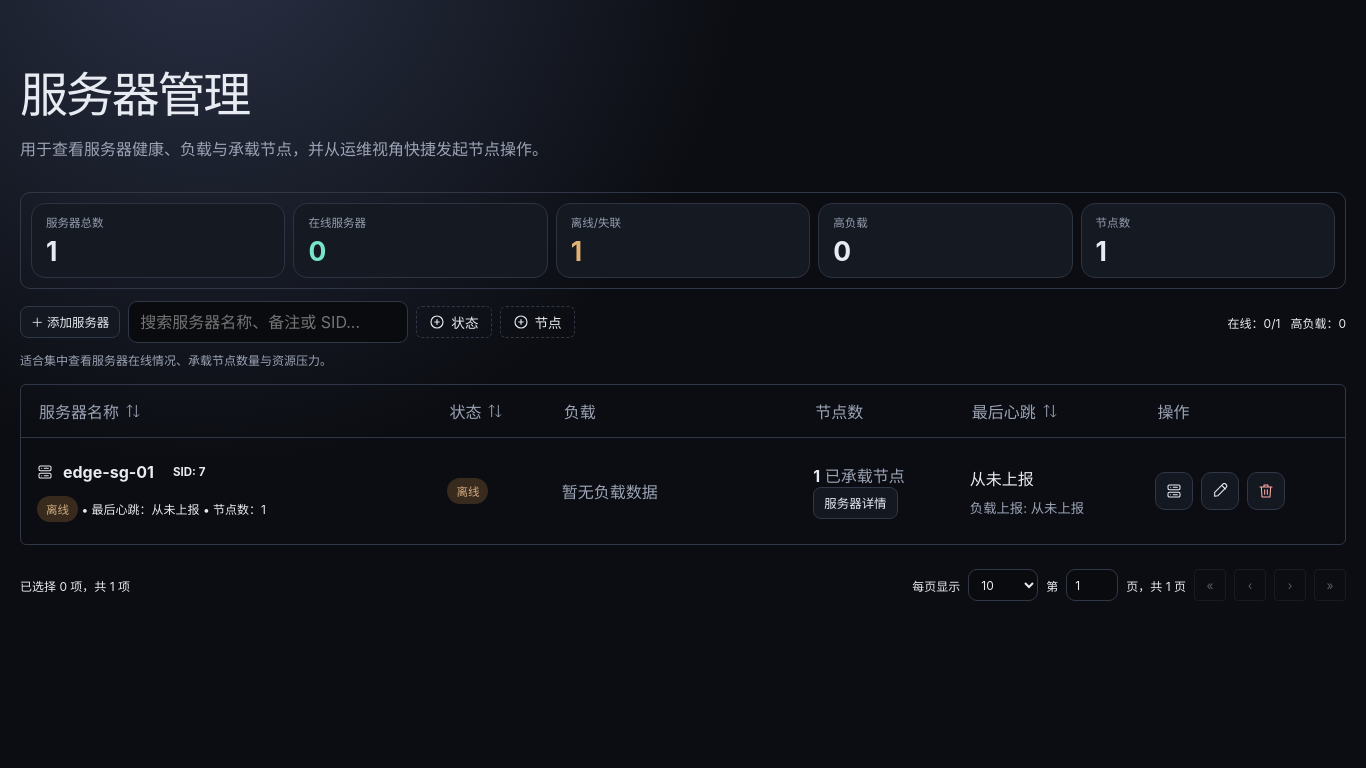
ServerManagementPage › Escape closes only the top modal and restores focus to its schedule button
Click the button "服务器详情". click: (855, 503)
box: [813,487,898,519]
(page scrolled)
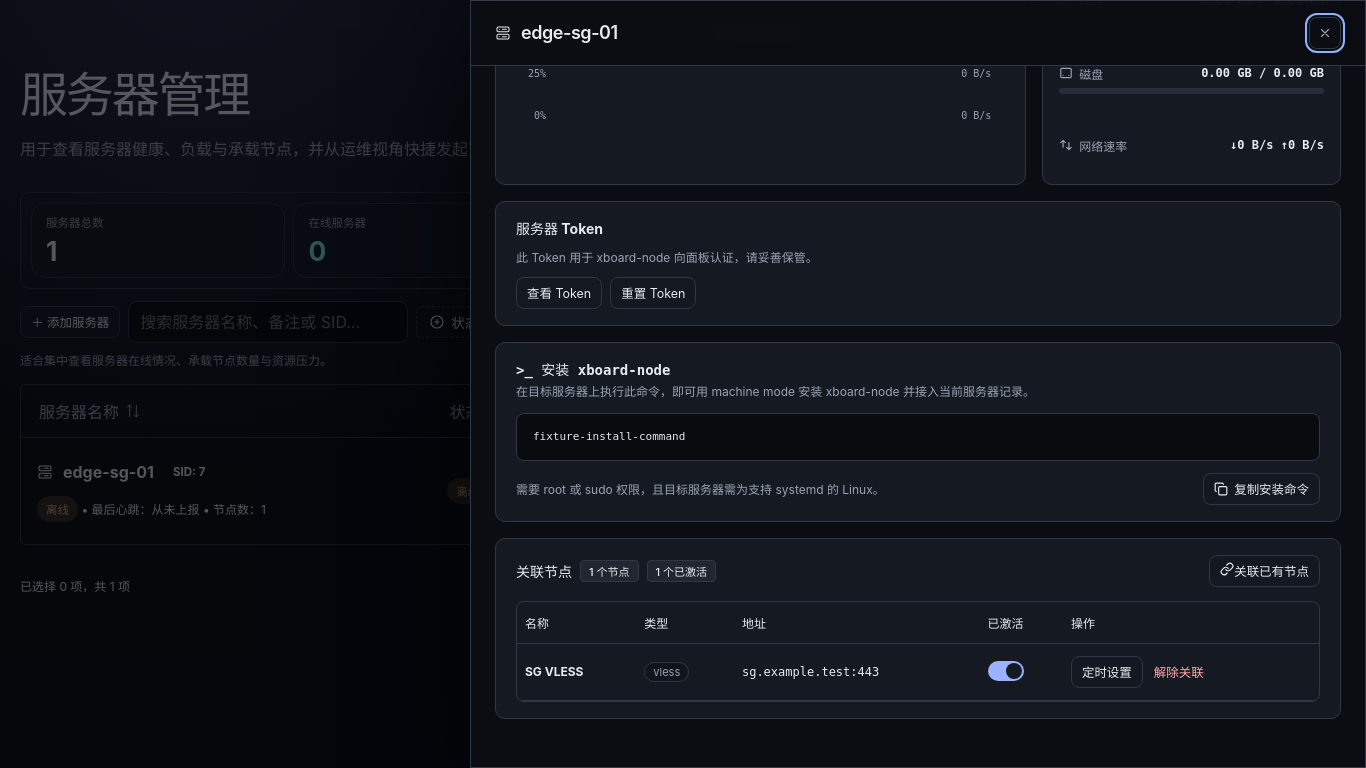
Click the button with aria-label "定时设置：SG VLESS". click: (1107, 672)
box: [1071,656,1143,688]
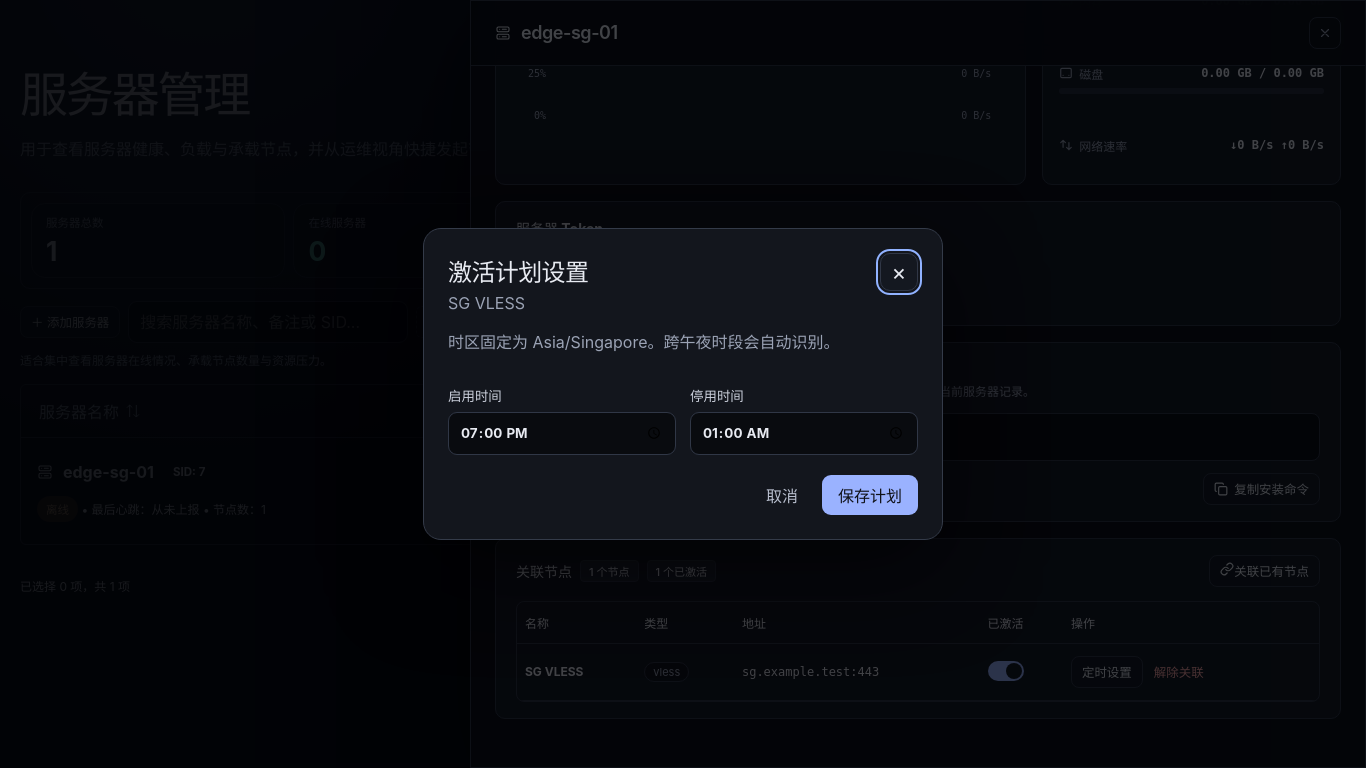
Expected: the dialog "激活计划设置" is shown, [423,228,943,540]
Press Escape
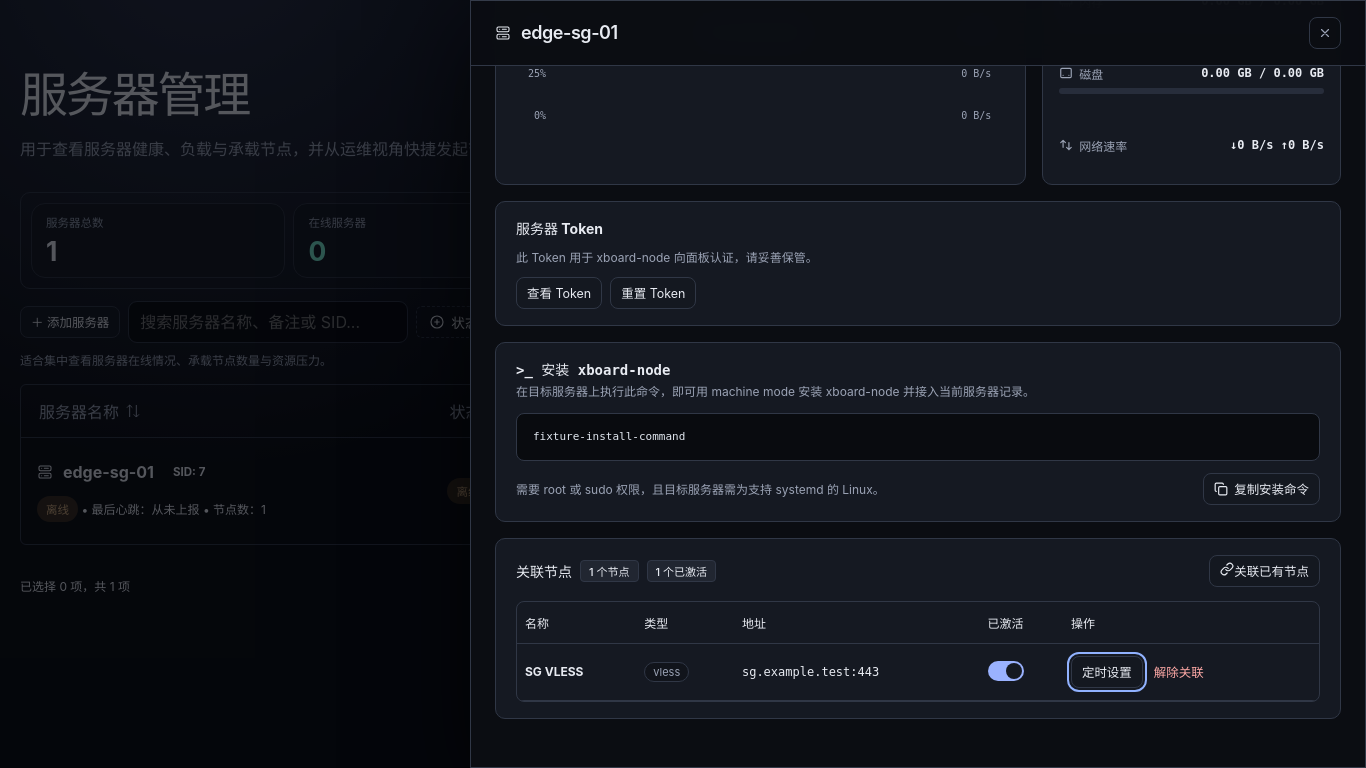
Expected: the dialog named "服务器详情" is shown
Expected: the heading "激活计划设置" is gone
